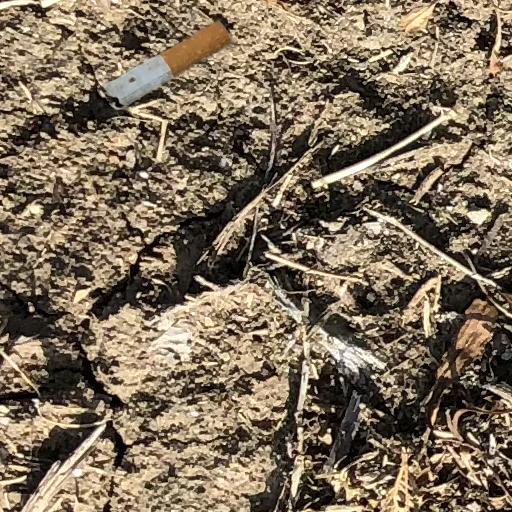smoke: (104, 21, 231, 110)
